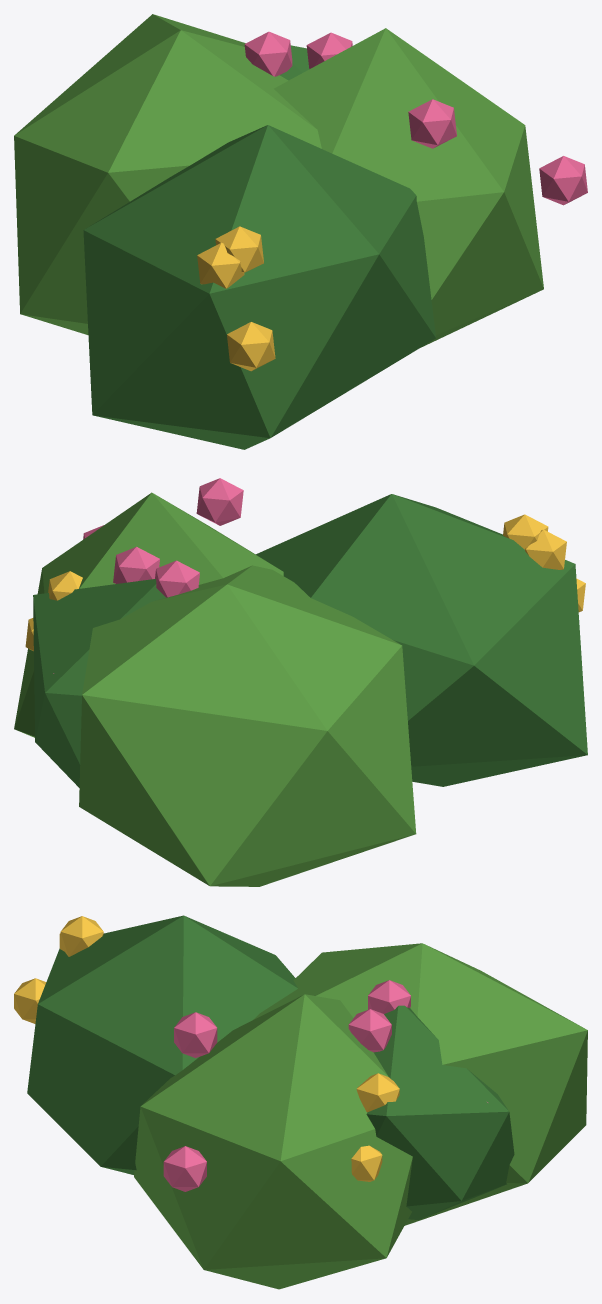
The model's file is ENV_Bush.fbx.
3 renders of one model, top to bottom at view 1: azimuth 30°, elevation 25°; view 2: azimuth 150°, elevation 25°; view 3: azimuth 270°, elevation 25°, orthographic. The views are drawn at different scales.
Parts seen in each view (by area): view 1: ENV_Bush; view 2: ENV_Bush; view 3: ENV_Bush.
Boxes of the visible parts, x1,y1,x2,y2 form: ENV_Bush: (14,14,587,449); ENV_Bush: (14,478,587,886); ENV_Bush: (14,915,587,1289).
Bounding box in the file's own units: 1.28 × 0.7994 × 1.35.
